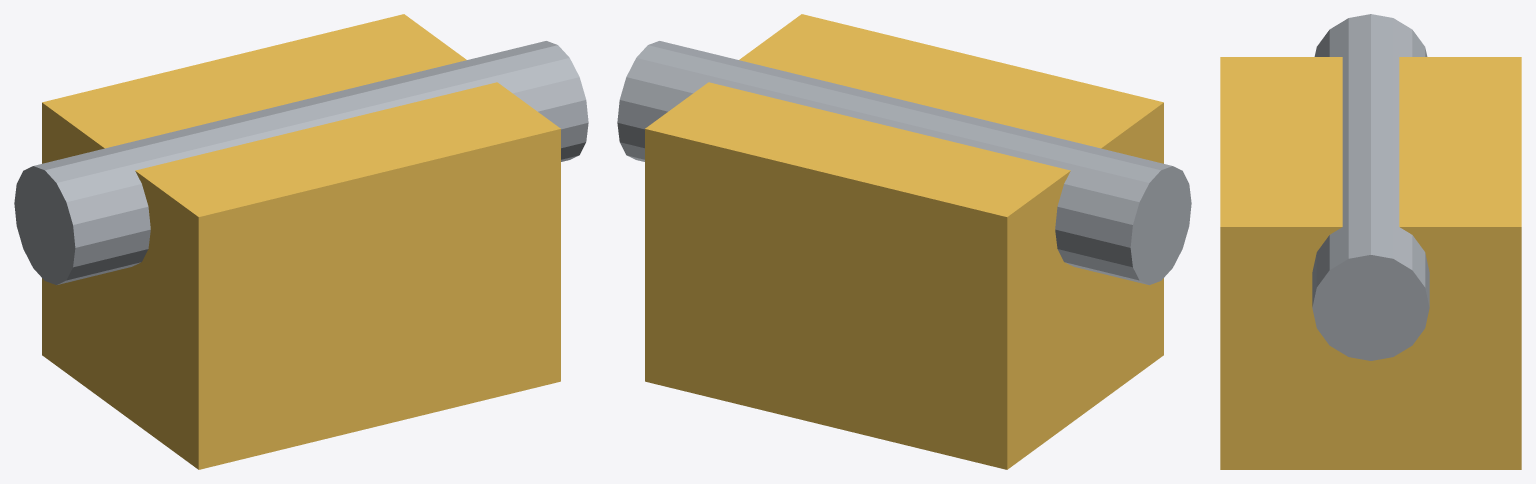
Rendered from SM_HeavyHydraulicAssembly.glb.
The picture shows the model from 3 angles, left to right: view 1: azimuth 30°, elevation 25°; view 2: azimuth 150°, elevation 25°; view 3: azimuth 270°, elevation 25°; orthographic projection. The views are drawn at different scales.
Visible parts, largest first — view 1: Frame, PistonA, PistonB; view 2: Frame, PistonA, PistonB; view 3: Frame, PistonB, PistonA.
Boxes of the visible parts, left/top/right/bottom form: Frame: left=42, top=14, right=560, bottom=469; PistonA: left=14, top=94, right=389, bottom=285; PistonB: left=214, top=41, right=588, bottom=161; Frame: left=645, top=14, right=1163, bottom=469; PistonA: left=815, top=92, right=1191, bottom=285; PistonB: left=617, top=41, right=991, bottom=161; Frame: left=1220, top=57, right=1521, bottom=469; PistonB: left=1312, top=99, right=1429, bottom=360; PistonA: left=1314, top=14, right=1427, bottom=172.
Size of the model in its own units: 0.68 by 0.33 by 0.36.
